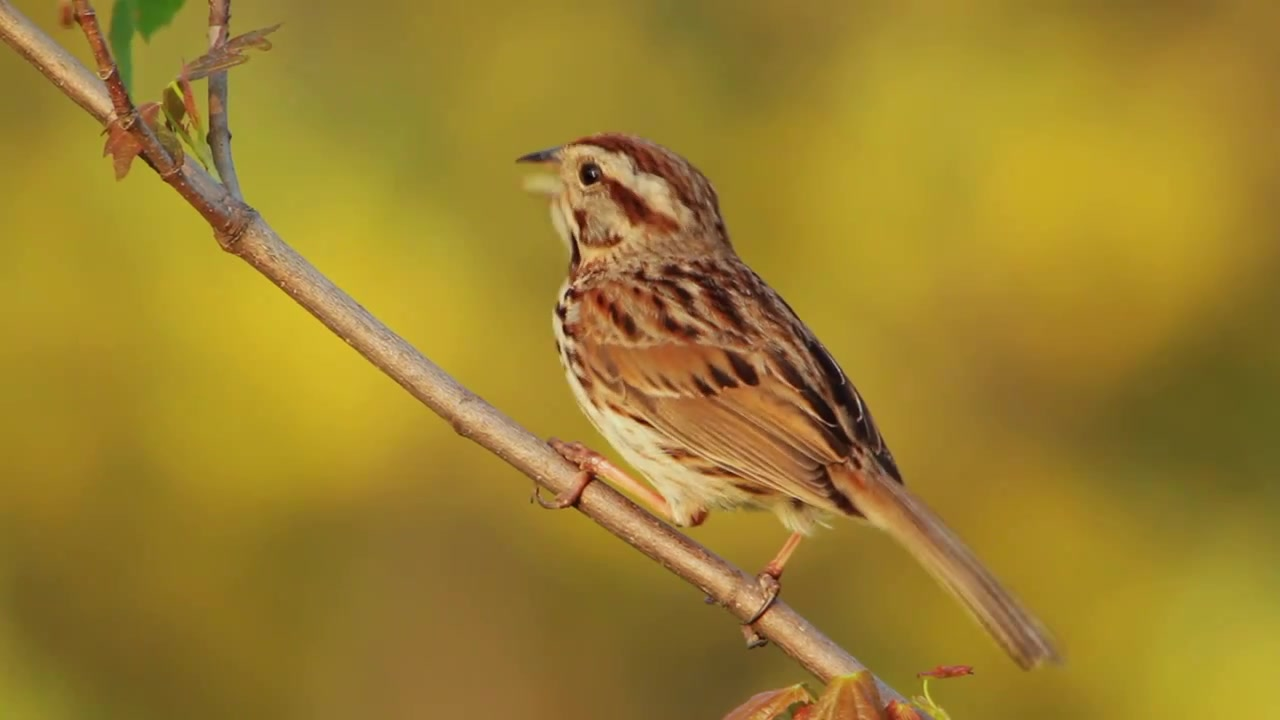bird: (514, 133, 1068, 674)
